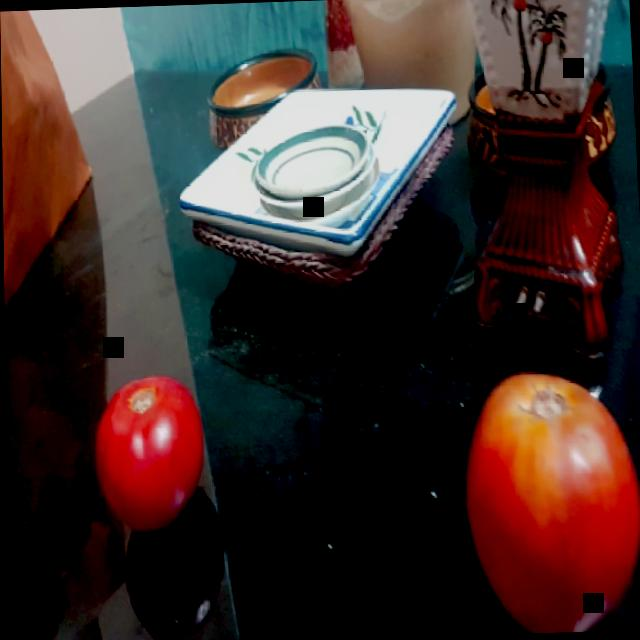tomato: (455, 369, 640, 636), (90, 369, 203, 533)
